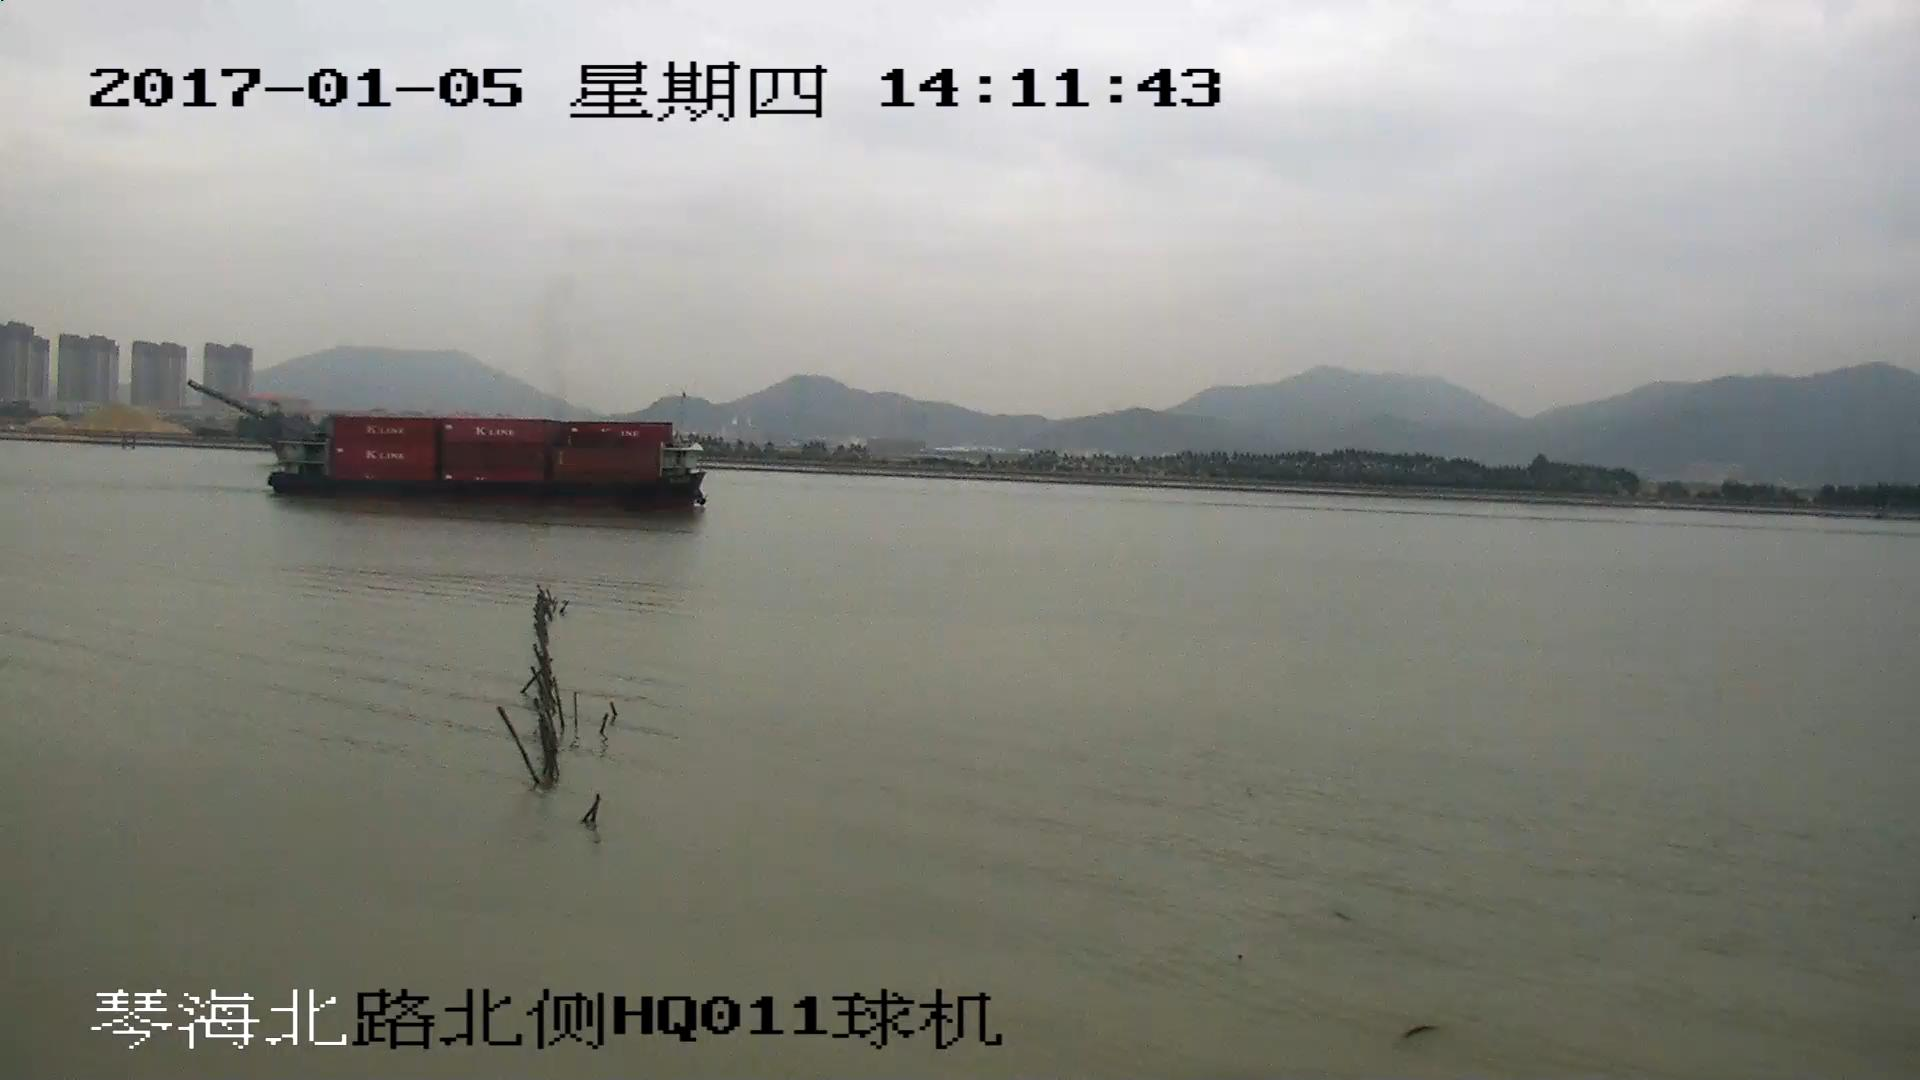container ship: (270, 411, 706, 510)
